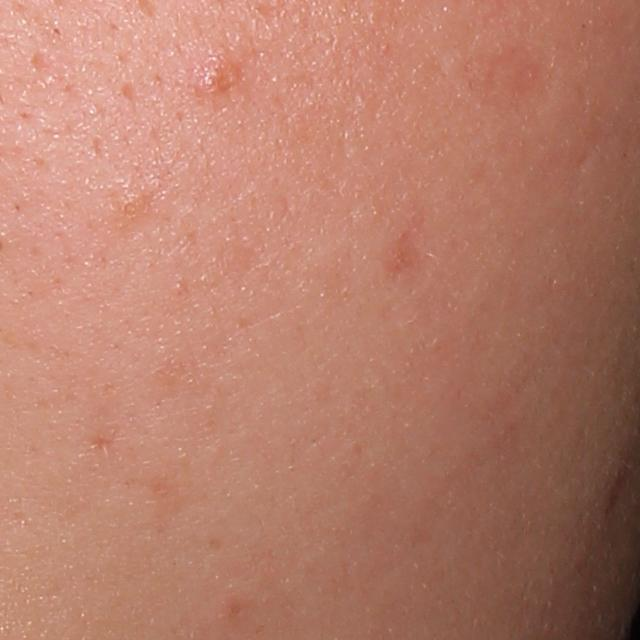atrophic_scar: (120, 80, 139, 108)
comedo: (117, 194, 145, 226)
